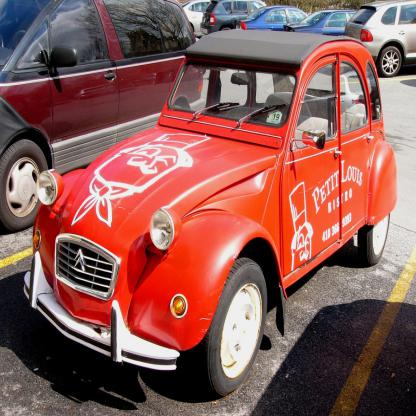Car: (23, 27, 396, 396), (0, 0, 207, 234), (181, 0, 415, 77)
